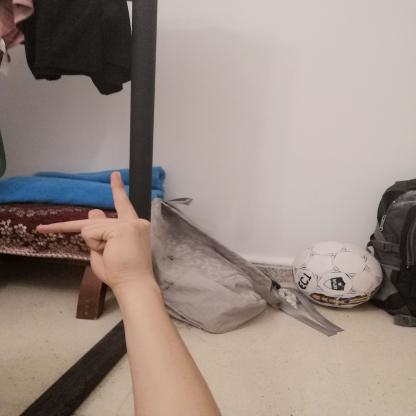DHAA: (26, 164, 163, 295)
